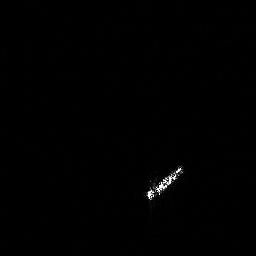ship: (146, 164, 183, 201)
